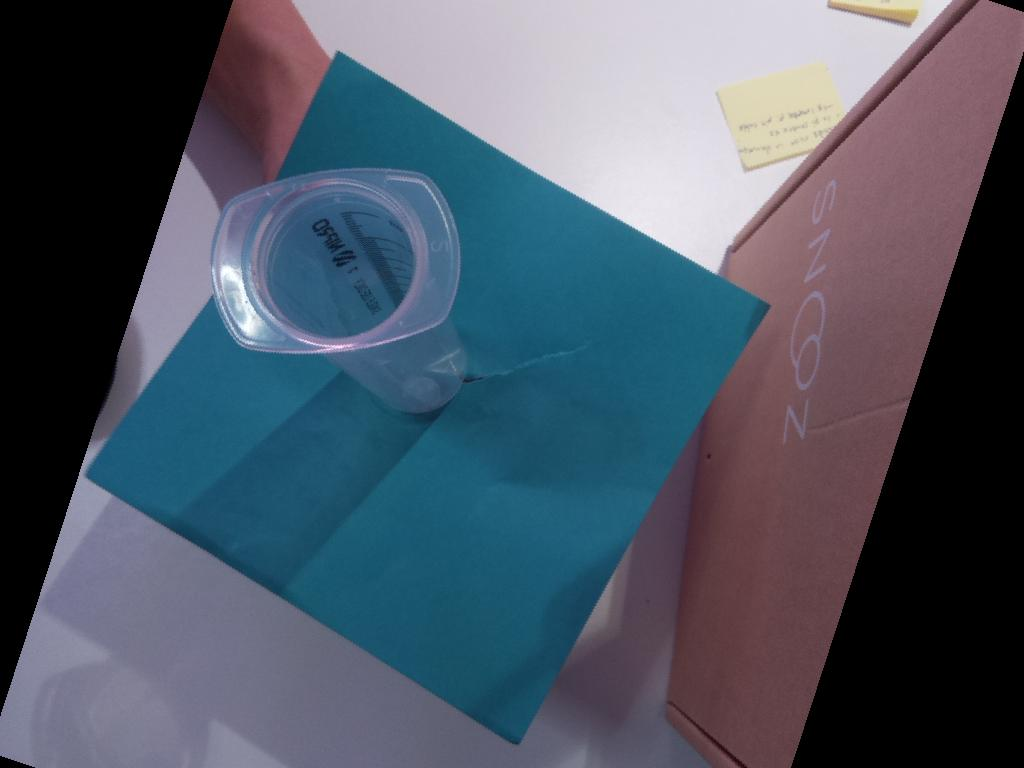clean: (209, 167, 465, 356)
